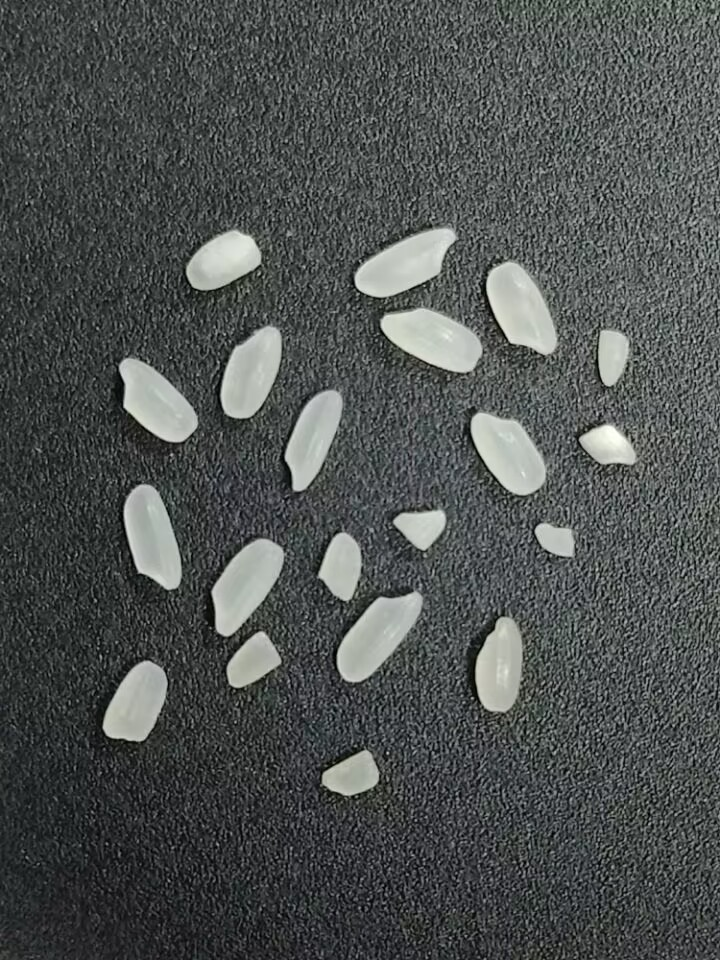broken: (102, 658, 168, 742), (186, 226, 264, 292), (311, 524, 368, 604), (224, 630, 282, 689), (388, 501, 451, 552), (318, 748, 380, 797), (576, 420, 636, 467), (593, 326, 631, 389), (534, 520, 575, 561)
rice: (346, 222, 464, 302), (336, 590, 423, 683), (374, 304, 487, 375), (485, 258, 560, 359), (116, 356, 200, 446), (210, 538, 285, 636), (468, 409, 546, 497), (121, 482, 183, 591), (216, 322, 285, 419), (283, 389, 342, 494), (475, 616, 523, 713)
